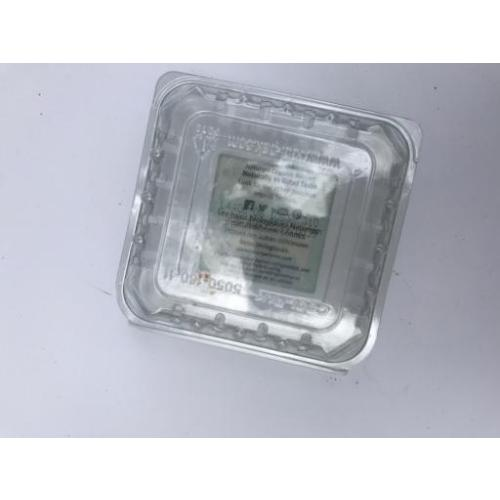plastic: (129, 78, 413, 369)
